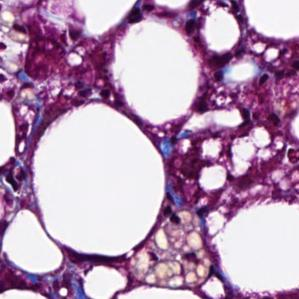inflammation: (160, 199, 213, 230)
